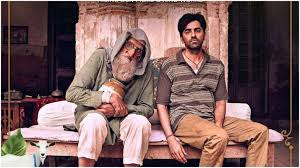Bad: (66, 13, 269, 167)
